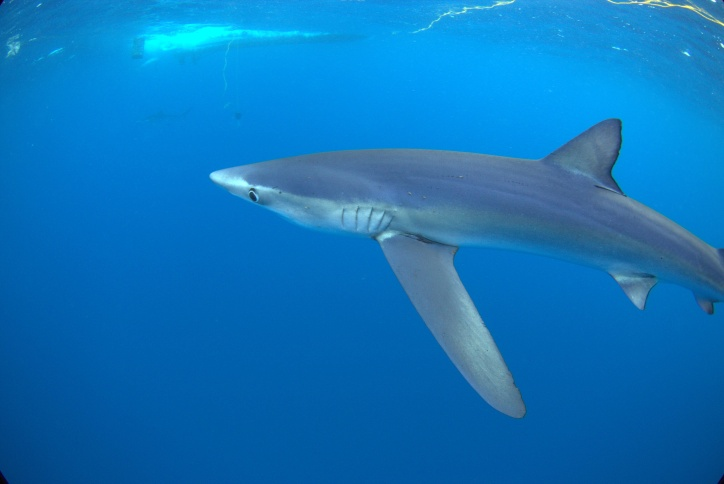Azul: (181, 102, 724, 418)
